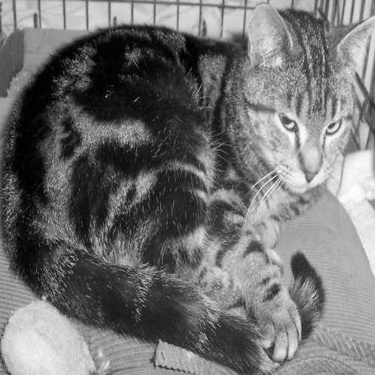cat: (5, 6, 370, 369)
